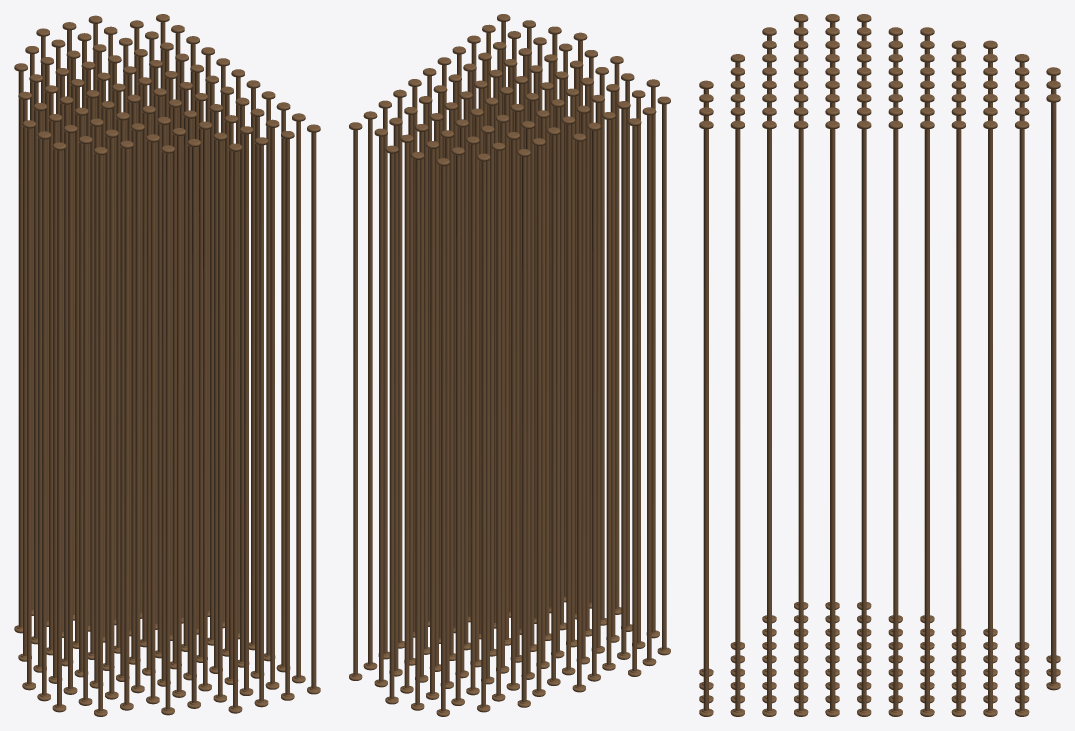
File: T1Block04_One_Quarter_CutOutRebar.fbx
3 renders of one model, left to right at view 1: azimuth 30°, elevation 25°; view 2: azimuth 150°, elevation 25°; view 3: azimuth 270°, elevation 25°, orthographic. The views are drawn at different scales.
Visible parts, largest first — view 1: default; view 2: default; view 3: default.
Boxes of the visible parts, x1,y1,x2,y2 form: default: (14, 14, 320, 716); default: (349, 14, 670, 716); default: (699, 14, 1060, 716).
Size of the model in its own units: 2536 by 6200 by 3436.
